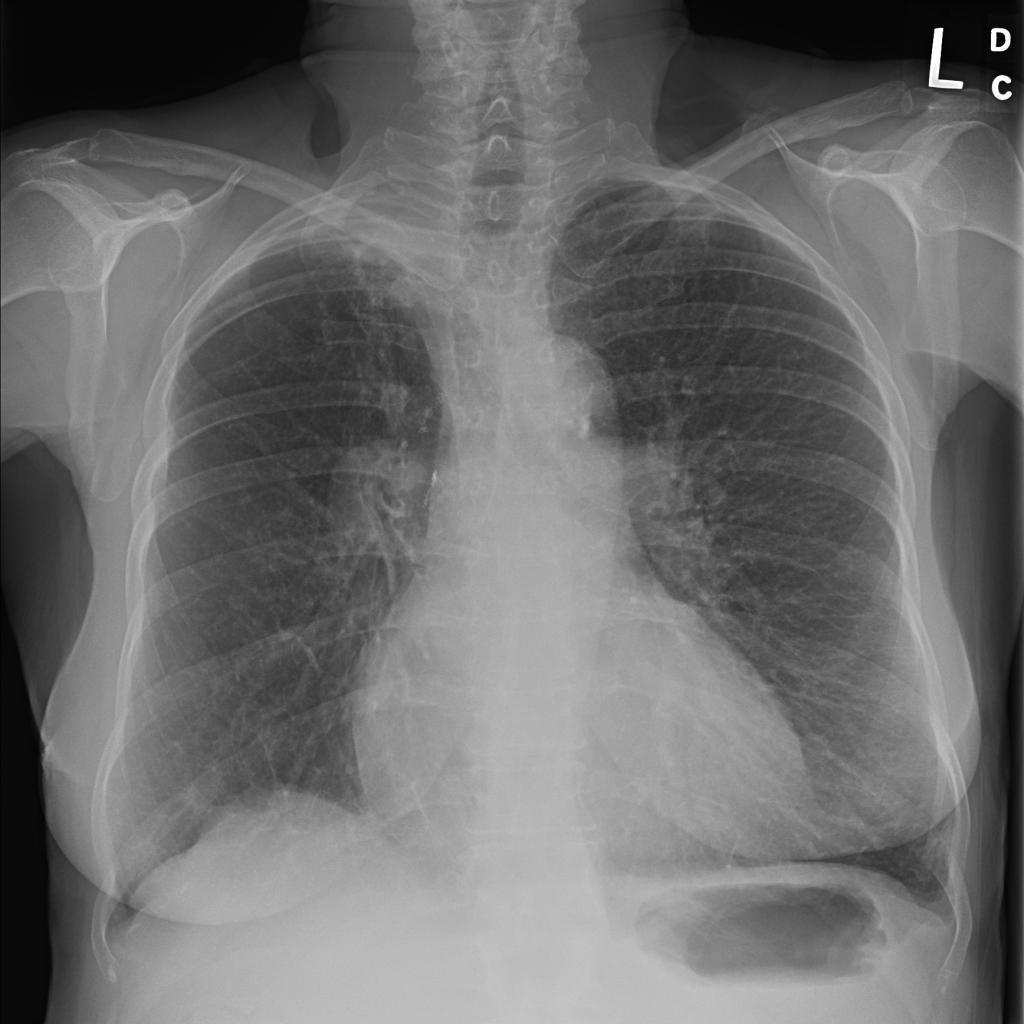Nodule: (138, 151, 176, 175)
